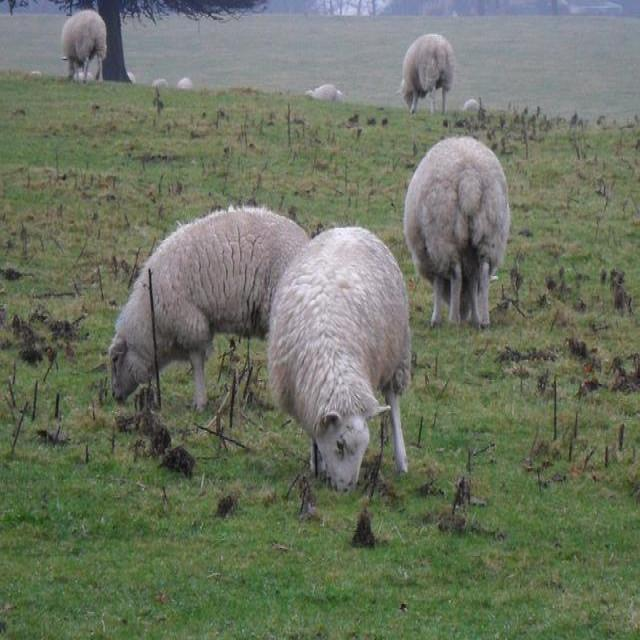Sheep: (108, 208, 313, 417), (268, 227, 411, 493), (401, 136, 512, 331), (393, 32, 458, 116), (61, 11, 108, 84)
